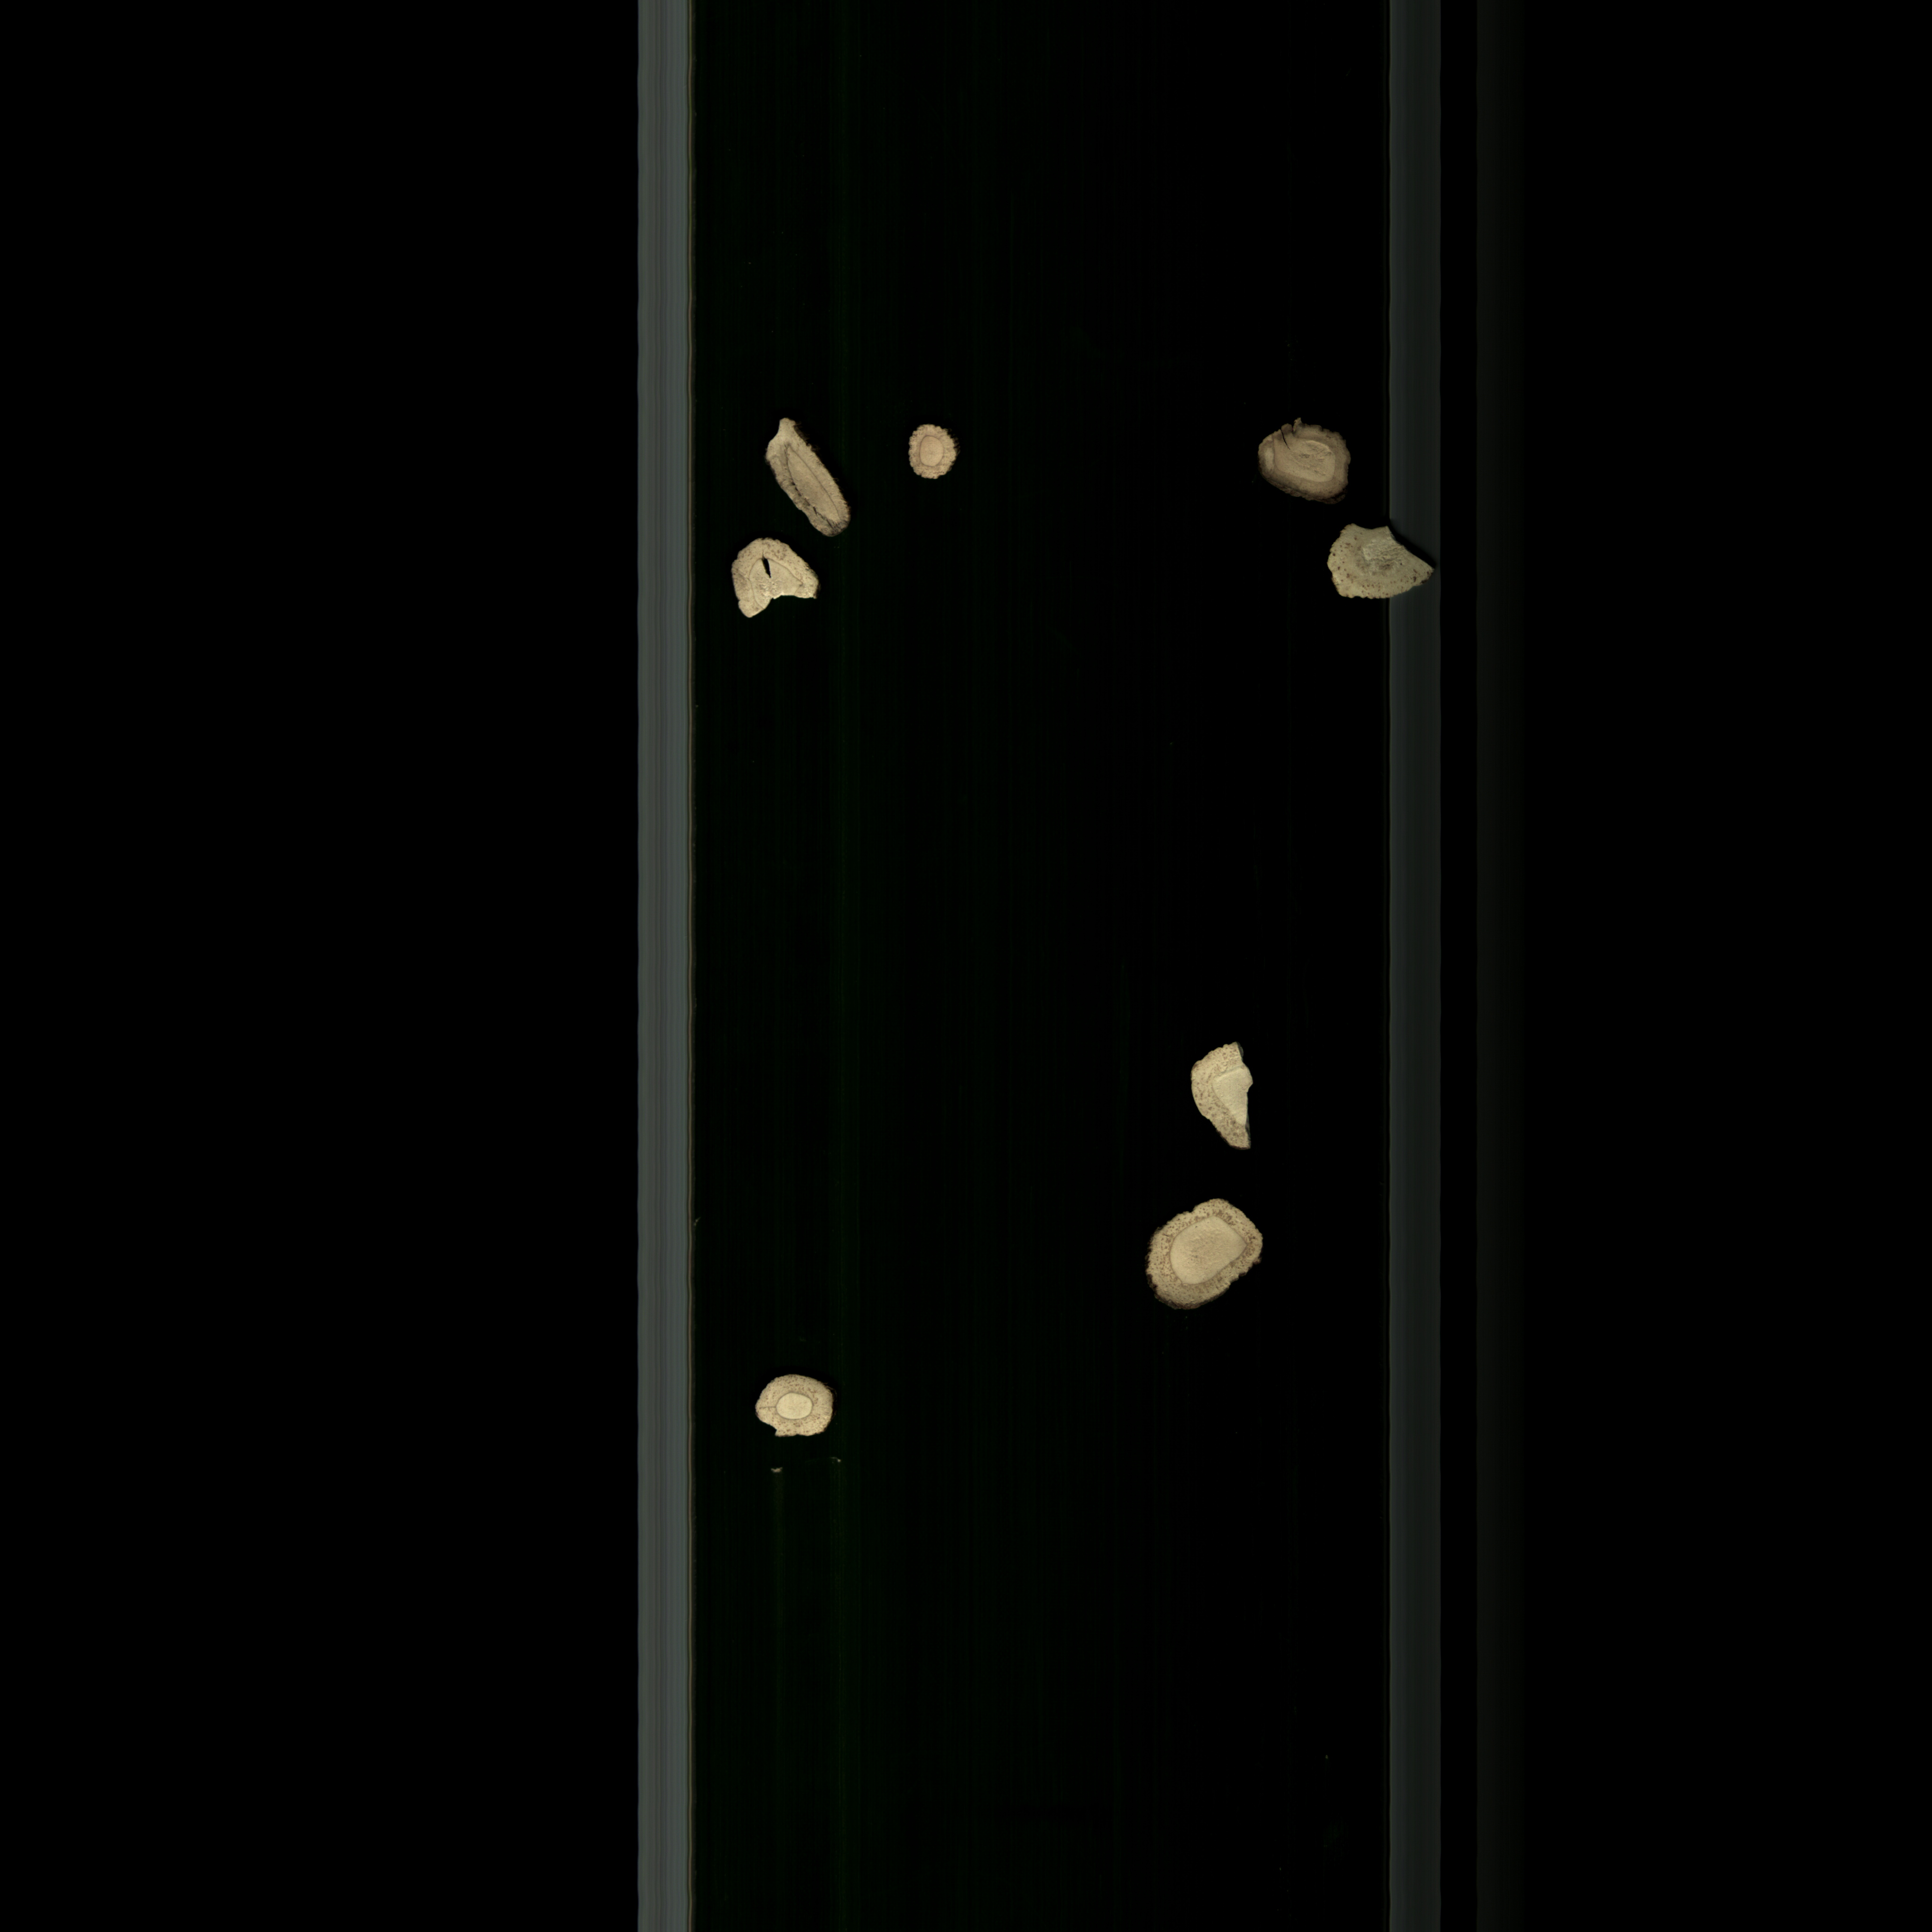debris: (1177, 1033, 1270, 1159), (1320, 520, 1447, 605), (743, 1371, 839, 1453)
hole: (715, 531, 855, 609)
moldy: (1132, 1191, 1276, 1309), (755, 409, 855, 540), (1238, 418, 1355, 504)
